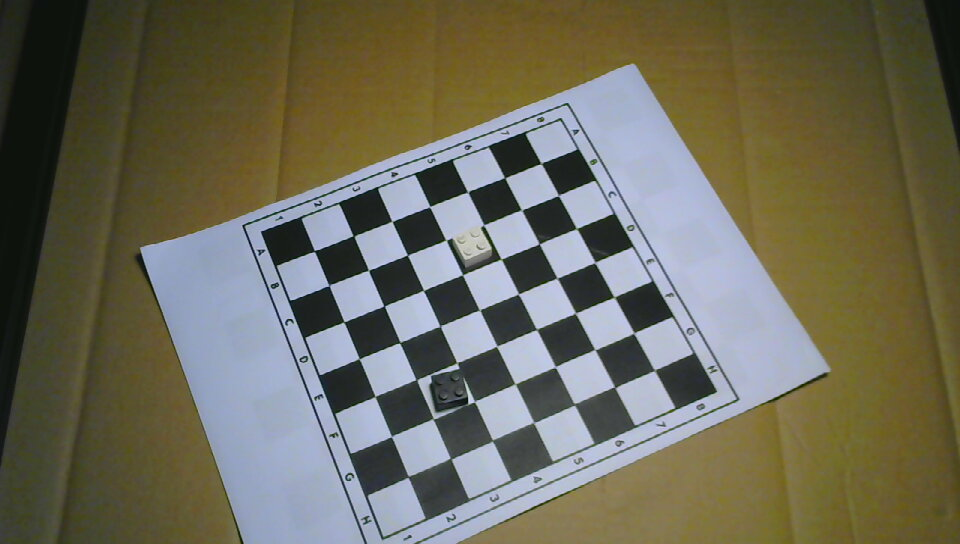bp: (430, 370, 468, 409)
wp: (452, 227, 493, 268)
